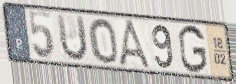5: (27, 8, 56, 62)
9: (151, 23, 174, 70)
A: (117, 18, 155, 71)
G: (177, 24, 209, 76)
O: (87, 17, 120, 66)
U: (55, 12, 89, 63)
